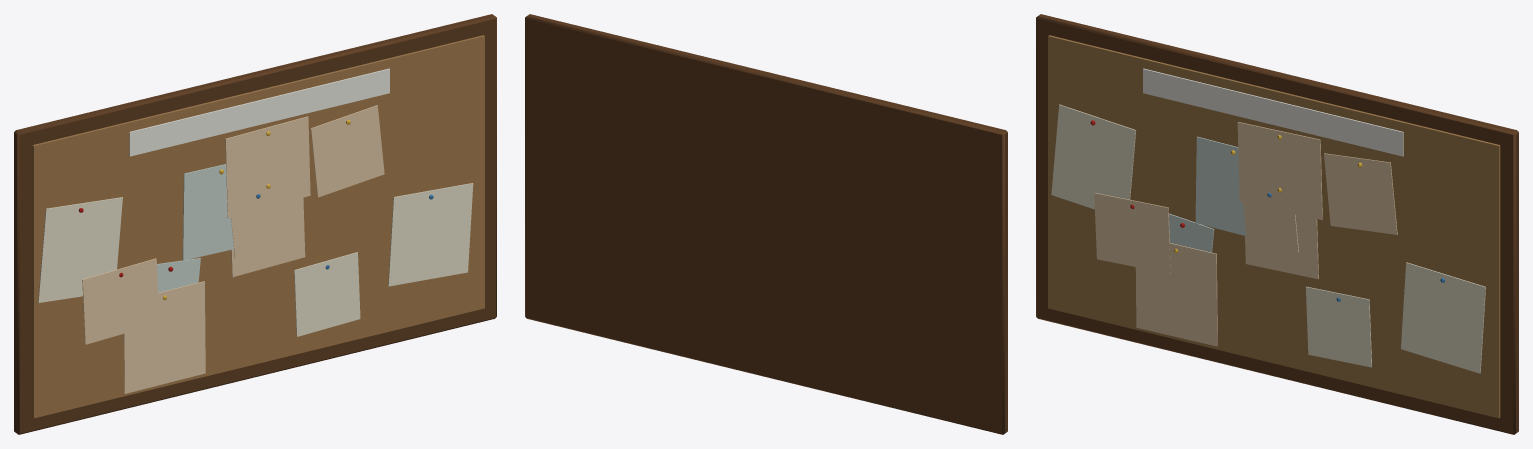
File: notice_board.glb
3 views of the same model, side by side, from view 1: azimuth 30°, elevation 25°; view 2: azimuth 150°, elevation 25°; view 3: azimuth 330°, elevation 25° (orthographic).
Visible parts, largest first — view 1: NoticeBoard; view 2: NoticeBoard; view 3: NoticeBoard.
Part boxes in pixels (x1,y1,x2,y2): NoticeBoard: (14, 14, 496, 434); NoticeBoard: (525, 14, 1007, 434); NoticeBoard: (1036, 14, 1518, 434).
Bounding box in the file's own units: 1.66 × 1 × 0.053.
